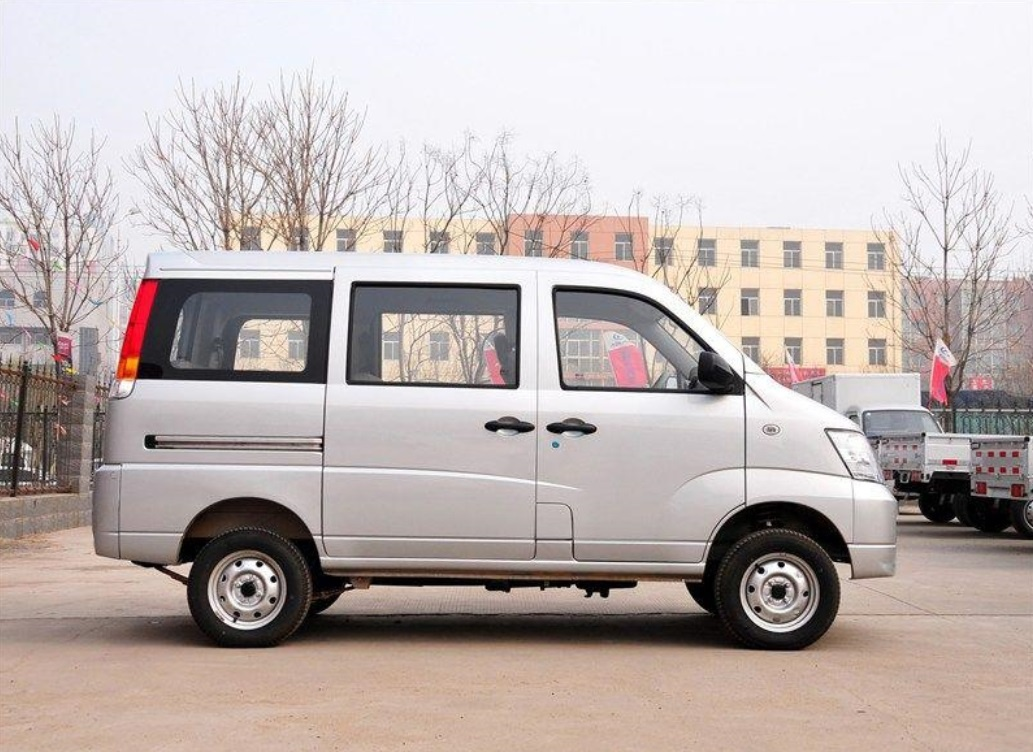minibus: (82, 235, 908, 661)
